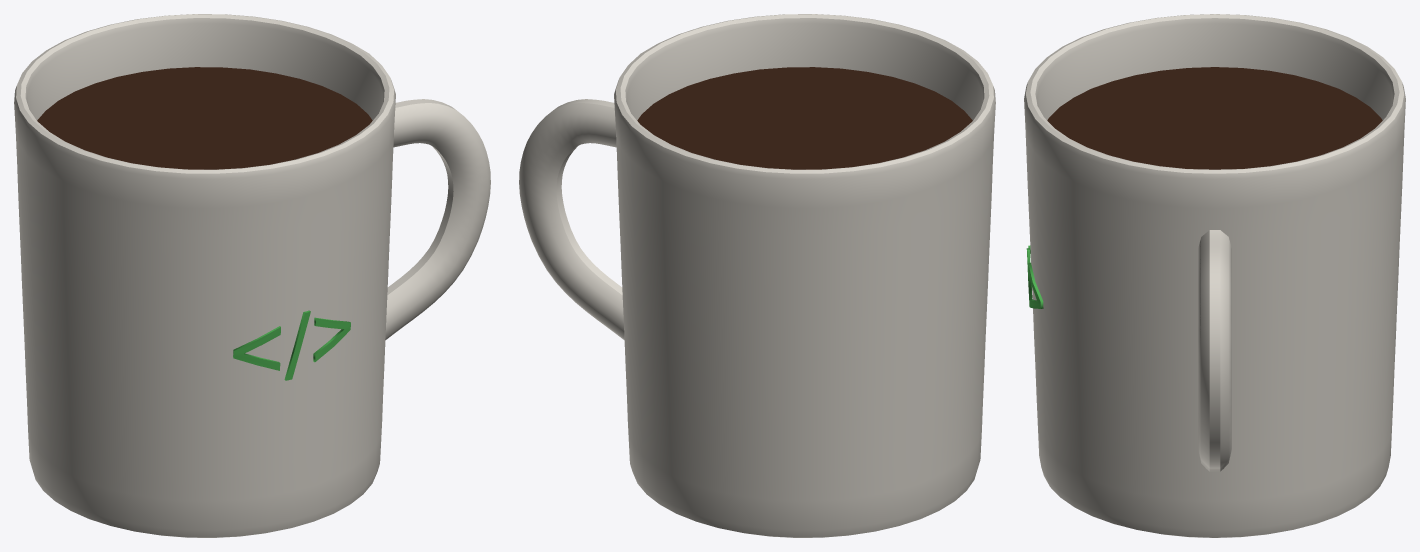
The model's file is mug.glb.
The picture shows the model from 3 angles, left to right: view 1: azimuth 30°, elevation 25°; view 2: azimuth 150°, elevation 25°; view 3: azimuth 270°, elevation 25°; orthographic projection.
Parts seen in each view (by area): view 1: Mug, Coffee, Logo; view 2: Mug, Coffee; view 3: Mug, Coffee, Logo.
Boxes of the visible parts, left/top/right/bottom form: Mug: left=14, top=14, right=490, bottom=537; Coffee: left=37, top=67, right=372, bottom=169; Logo: left=233, top=310, right=350, bottom=380; Mug: left=519, top=14, right=995, bottom=537; Coffee: left=637, top=67, right=972, bottom=169; Mug: left=1024, top=14, right=1405, bottom=537; Coffee: left=1047, top=67, right=1382, bottom=169; Logo: left=1026, top=245, right=1043, bottom=308.
Bounding box in the file's own units: 0.4336 × 0.3501 × 0.3198.
